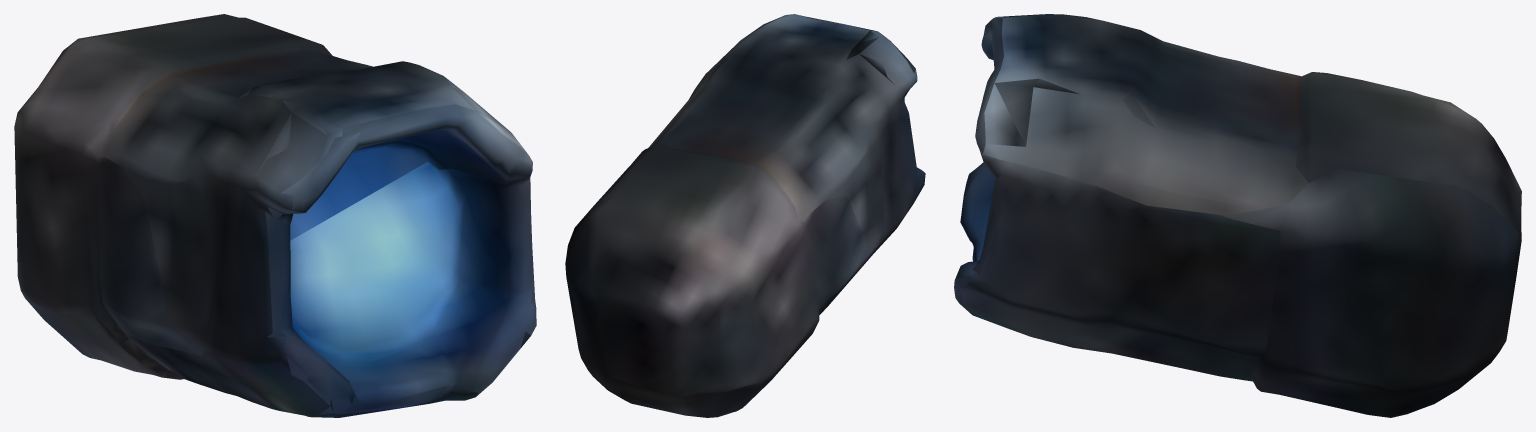
The model's file is cargo_piece_1.glb.
3 renders of one model, left to right at view 1: azimuth 30°, elevation 25°; view 2: azimuth 150°, elevation 25°; view 3: azimuth 270°, elevation 25°, orthographic. The views are drawn at different scales.
Parts seen in each view (by area): view 1: cargo_1; view 2: cargo_1; view 3: cargo_1.
Boxes of the visible parts, x1,y1,x2,y2 form: cargo_1: (14,14,536,417); cargo_1: (565,14,925,417); cargo_1: (954,14,1521,417).
Bounding box in the file's own units: 0.0462 × 0.0603 × 0.0898.
1 material, 1 textured.
